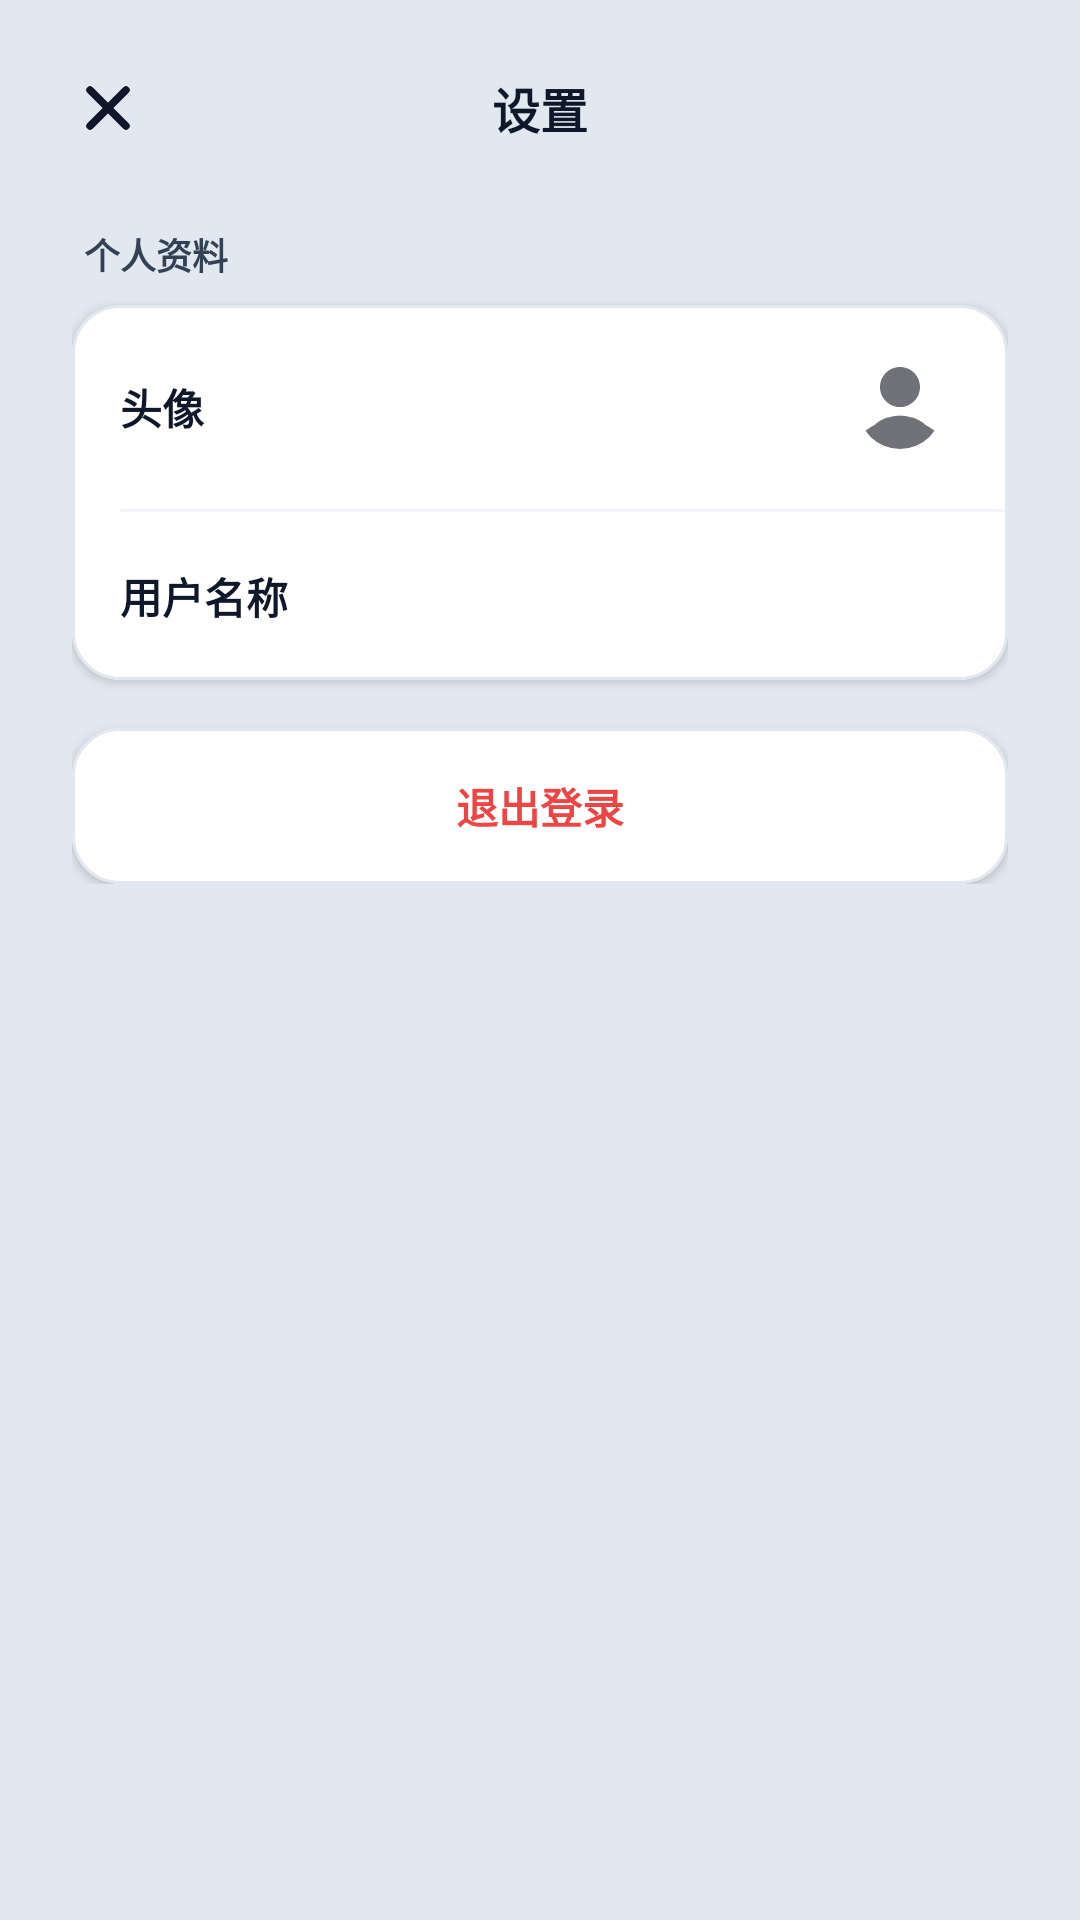

Point at icon controls on the screen. Image size 1080w x 1920h, points as (x=x, y=y).
返回: (x=108, y=108)
